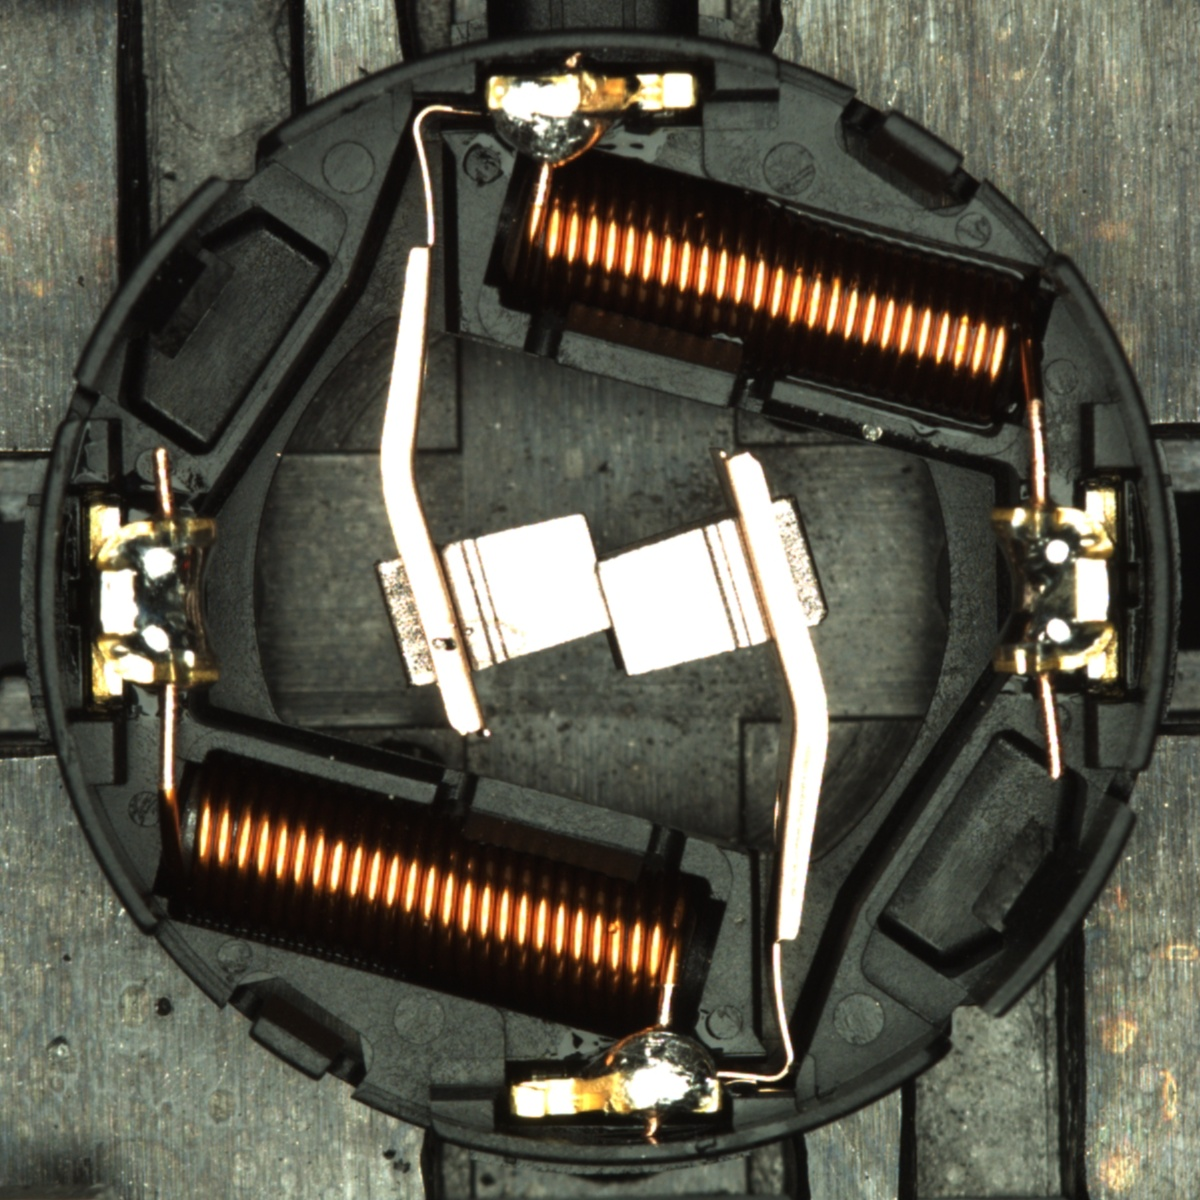1: (258, 55, 487, 279), (716, 953, 945, 1177)
2: (716, 55, 945, 279), (258, 953, 487, 1177)
3: (29, 279, 258, 503), (945, 729, 1175, 953)
4: (258, 279, 487, 503), (716, 729, 945, 953)
5: (487, 167, 716, 391), (487, 841, 716, 1065)
6: (716, 279, 945, 503), (258, 729, 487, 953)
7: (945, 279, 1175, 503), (29, 729, 258, 953)
chau_dien: (81, 499, 223, 700), (984, 488, 1124, 686)
tay_choi: (484, 69, 701, 173), (508, 1022, 724, 1121)
thanh_de: (955, 786, 1143, 1035), (62, 165, 245, 405)
vun_chi: (430, 636, 459, 653)
